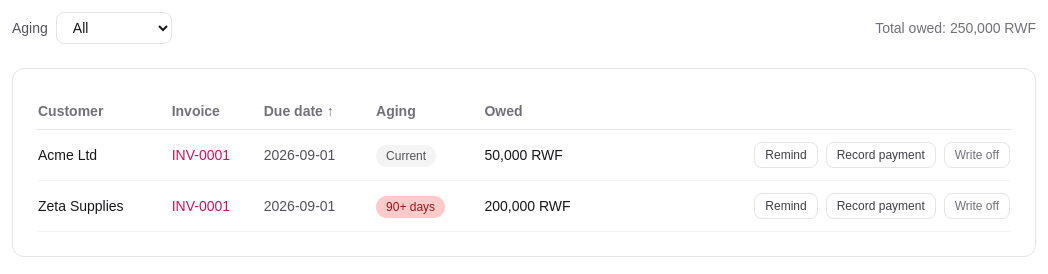
Test: Receivables › filters to a single aging bucket and updates the total owed
Check: the text "Acme Ltd" is shown, box [37,130,171,180]
Check: the text "Total owed: 250,000 RWF" is shown, box [875,18,1036,38]
Select "90+ days" in the dropdown labelled "Aging" at (114, 28), box [56,12,172,44]
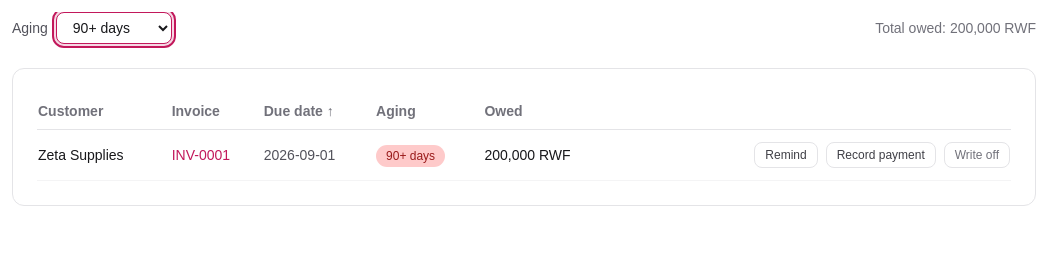
Check: the text "Zeta Supplies" is shown, box [37,130,171,180]
Check: the text "Acme Ltd" is gone
Check: the text "Total owed: 200,000 RWF" is shown, box [875,18,1036,38]
